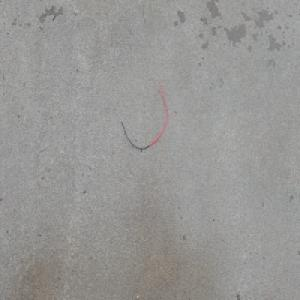Wire: (118, 75, 168, 150)
